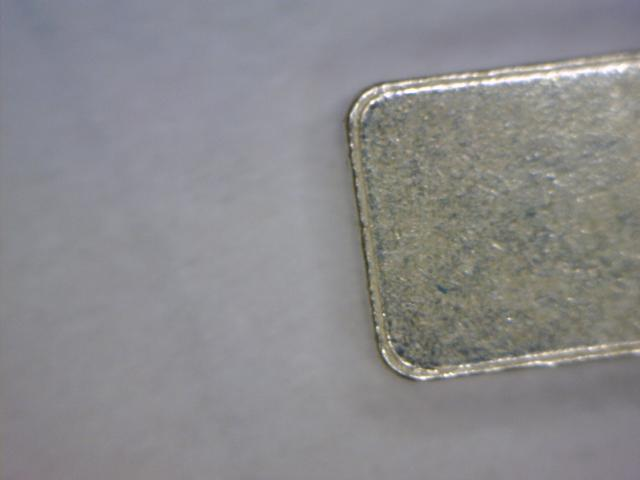nok: (345, 42, 635, 392)
